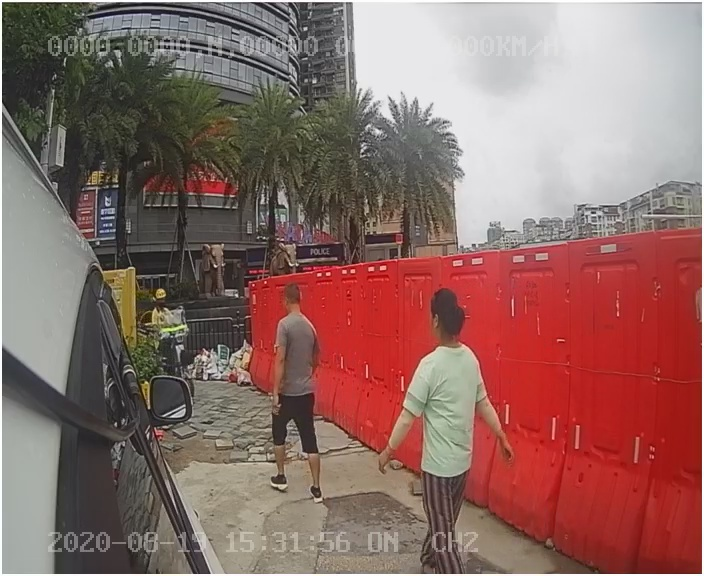person: (371, 278, 528, 531), (250, 283, 346, 511)
